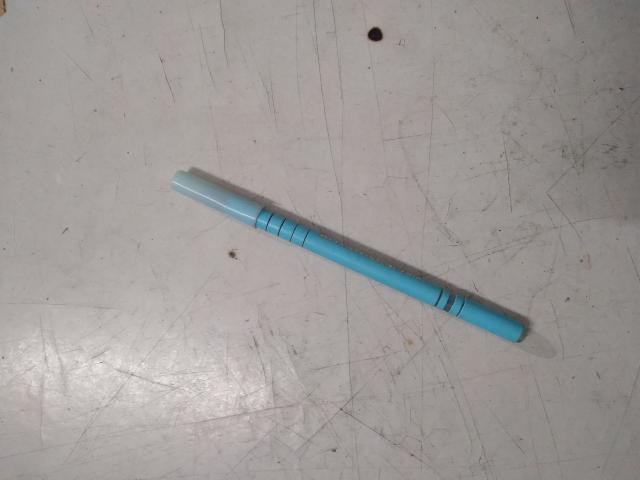PEN: (108, 133, 472, 312)
